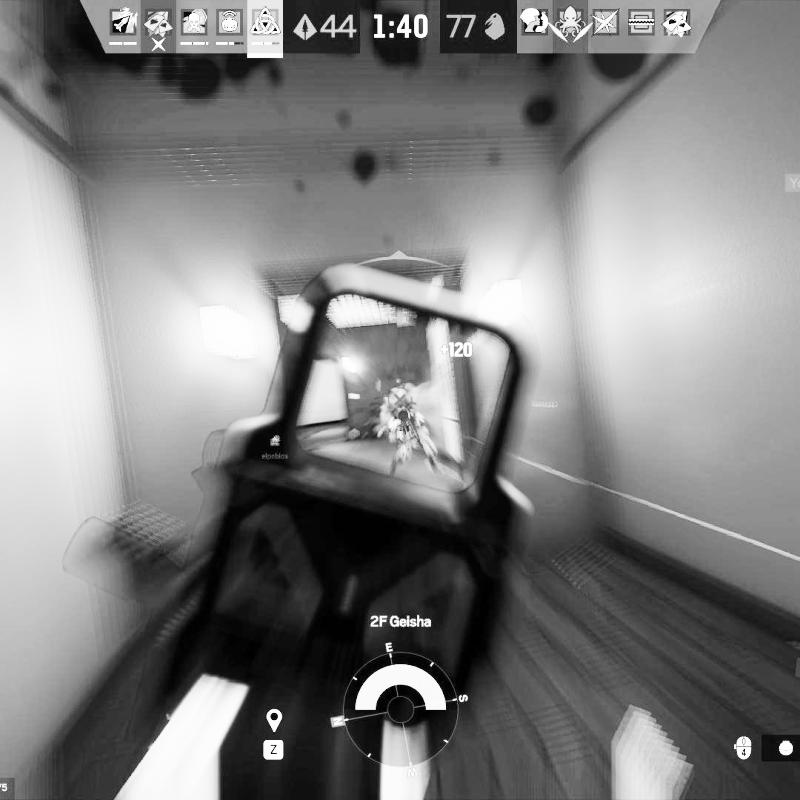Character: (382, 391, 443, 478)
Friend_label: (258, 434, 292, 461)
Head: (393, 394, 410, 411)
